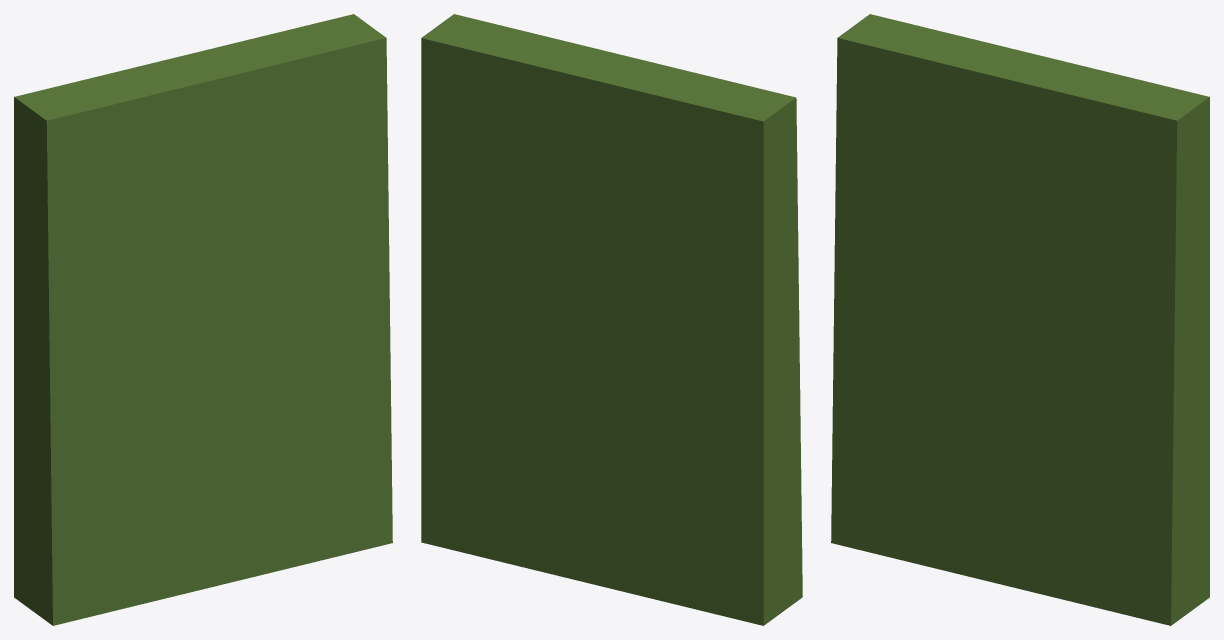
File: ElectricalSwitch_02_Mesh.fbx
The picture shows the model from 3 angles, left to right: view 1: azimuth 30°, elevation 25°; view 2: azimuth 150°, elevation 25°; view 3: azimuth 330°, elevation 25°; orthographic projection.
Parts seen in each view (by area): view 1: ElectricalSwitch_02_col; view 2: ElectricalSwitch_02_col; view 3: ElectricalSwitch_02_col.
Boxes of the visible parts, x1,y1,x2,y2 form: ElectricalSwitch_02_col: (14, 14, 392, 625); ElectricalSwitch_02_col: (421, 14, 802, 625); ElectricalSwitch_02_col: (831, 14, 1209, 625).
Size of what is drawn, in the model's own units: 7.81 by 11 by 1.55.
